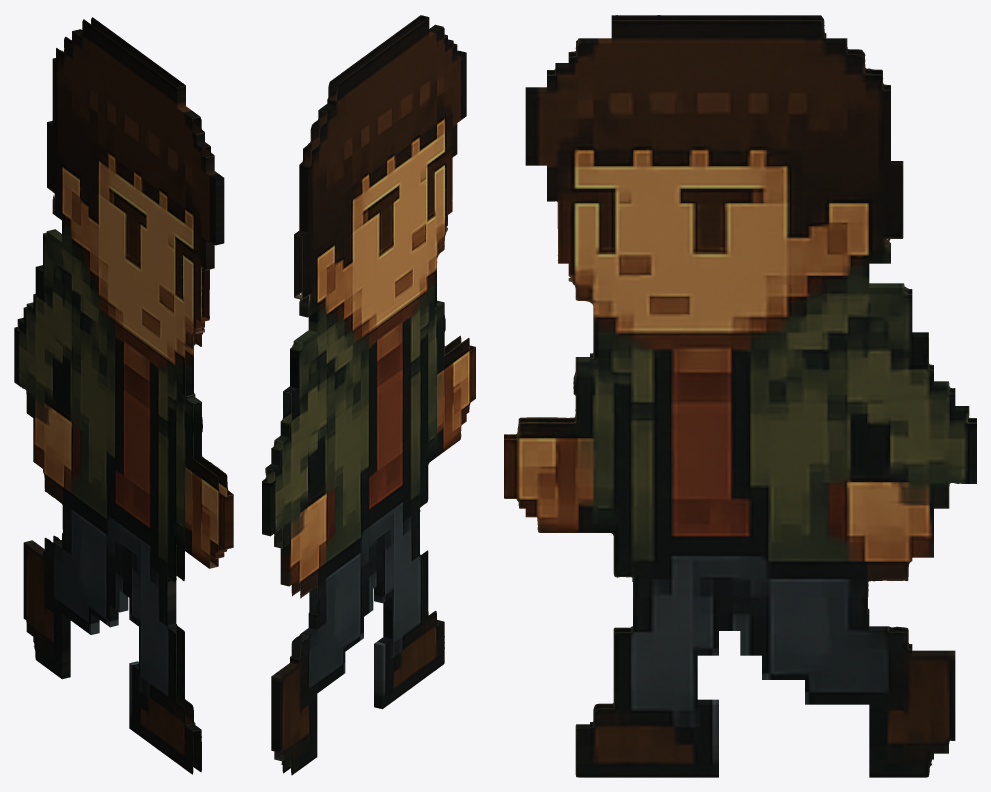
3 views of the same model, side by side, from view 1: azimuth 30°, elevation 25°; view 2: azimuth 150°, elevation 25°; view 3: azimuth 270°, elevation 25° (orthographic). The views are drawn at different scales.
Parts seen in each view (by area): view 1: ChatGPT Image 12_06_2025, 19_22_11.003; view 2: ChatGPT Image 12_06_2025, 19_22_11.003; view 3: ChatGPT Image 12_06_2025, 19_22_11.003.
Part boxes in pixels (left/top/right/bottom): ChatGPT Image 12_06_2025, 19_22_11.003: left=14, top=17, right=233, bottom=774; ChatGPT Image 12_06_2025, 19_22_11.003: left=262, top=15, right=475, bottom=775; ChatGPT Image 12_06_2025, 19_22_11.003: left=504, top=15, right=976, bottom=777.
Size of the model in its own units: 1 by 74.92 by 42.28.
Materials: 1 (1 with a texture image).
